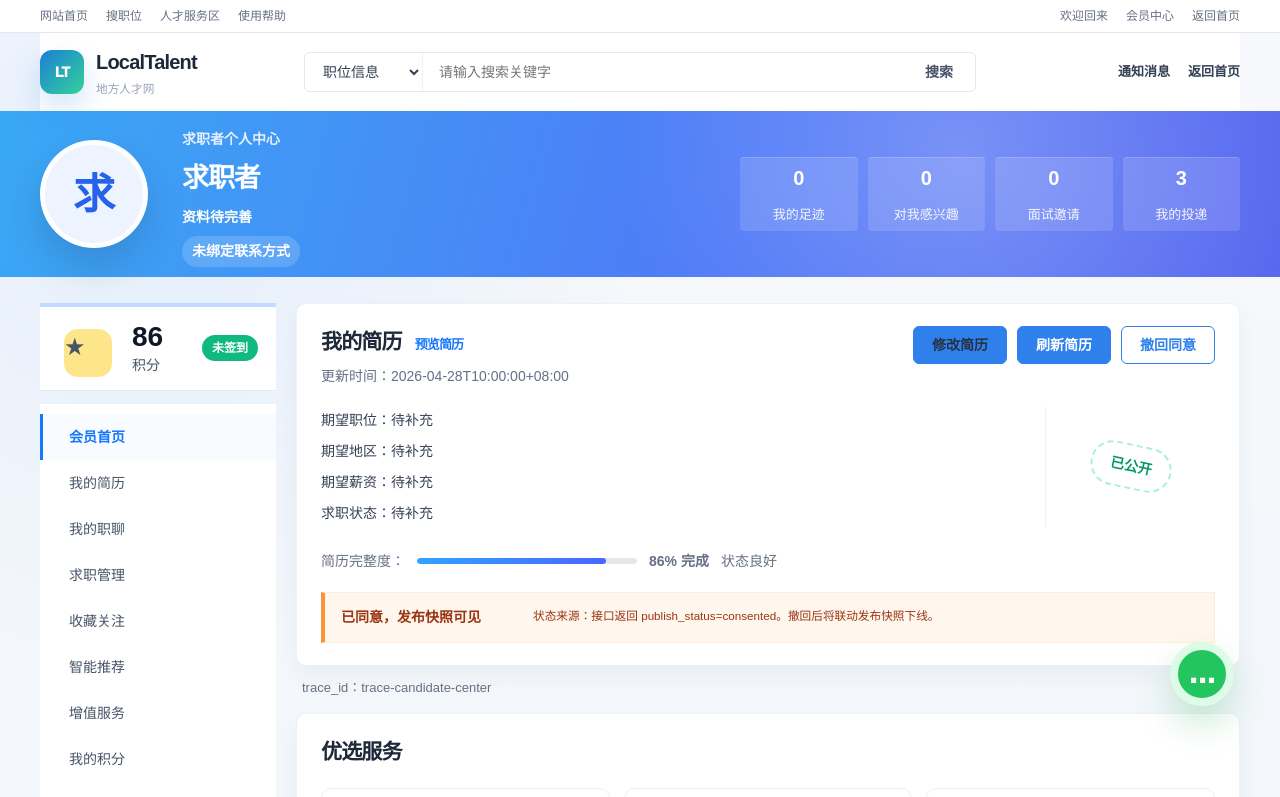
Test: CandidateCenter › shows retrying state while revoke request is in flight
Click the button "撤回同意": (1168, 345) [1121,326,1215,364]
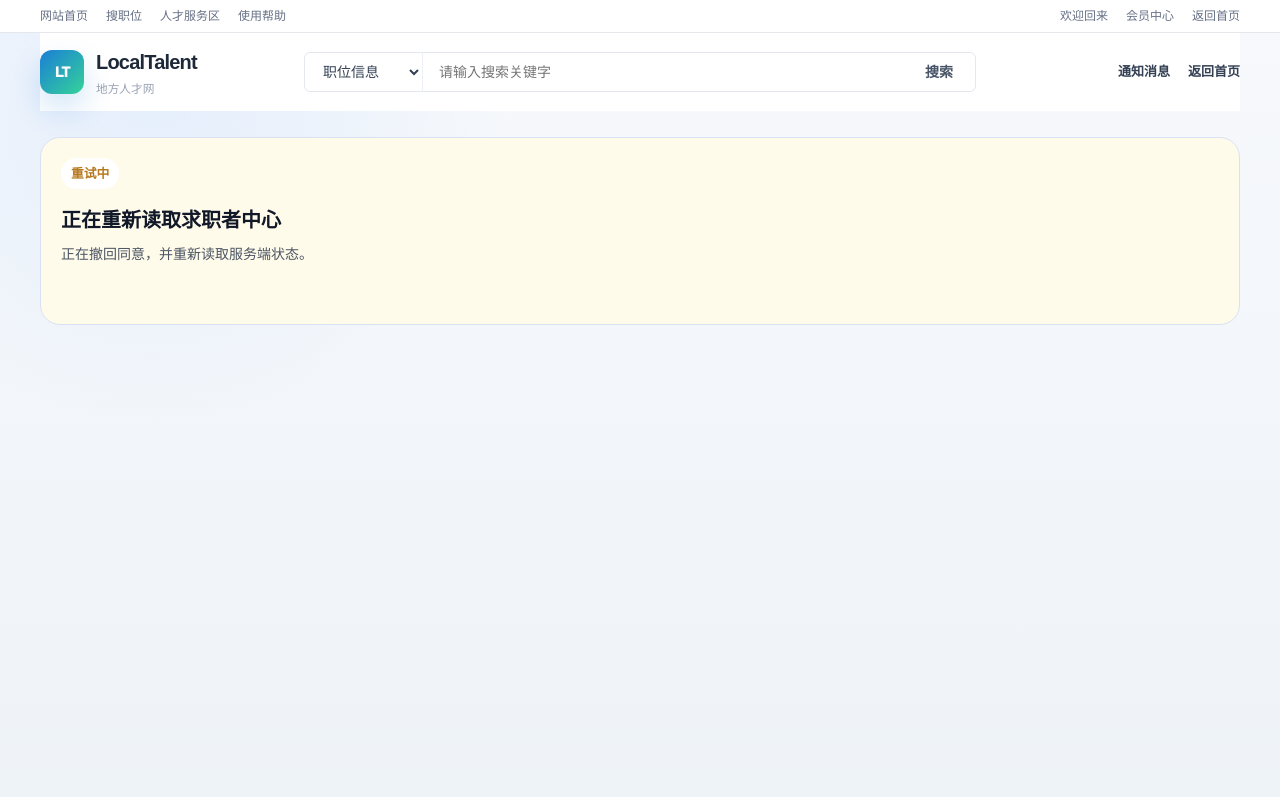
Result: the heading "正在重新读取求职者中心" is shown at [61,209,281,231]
